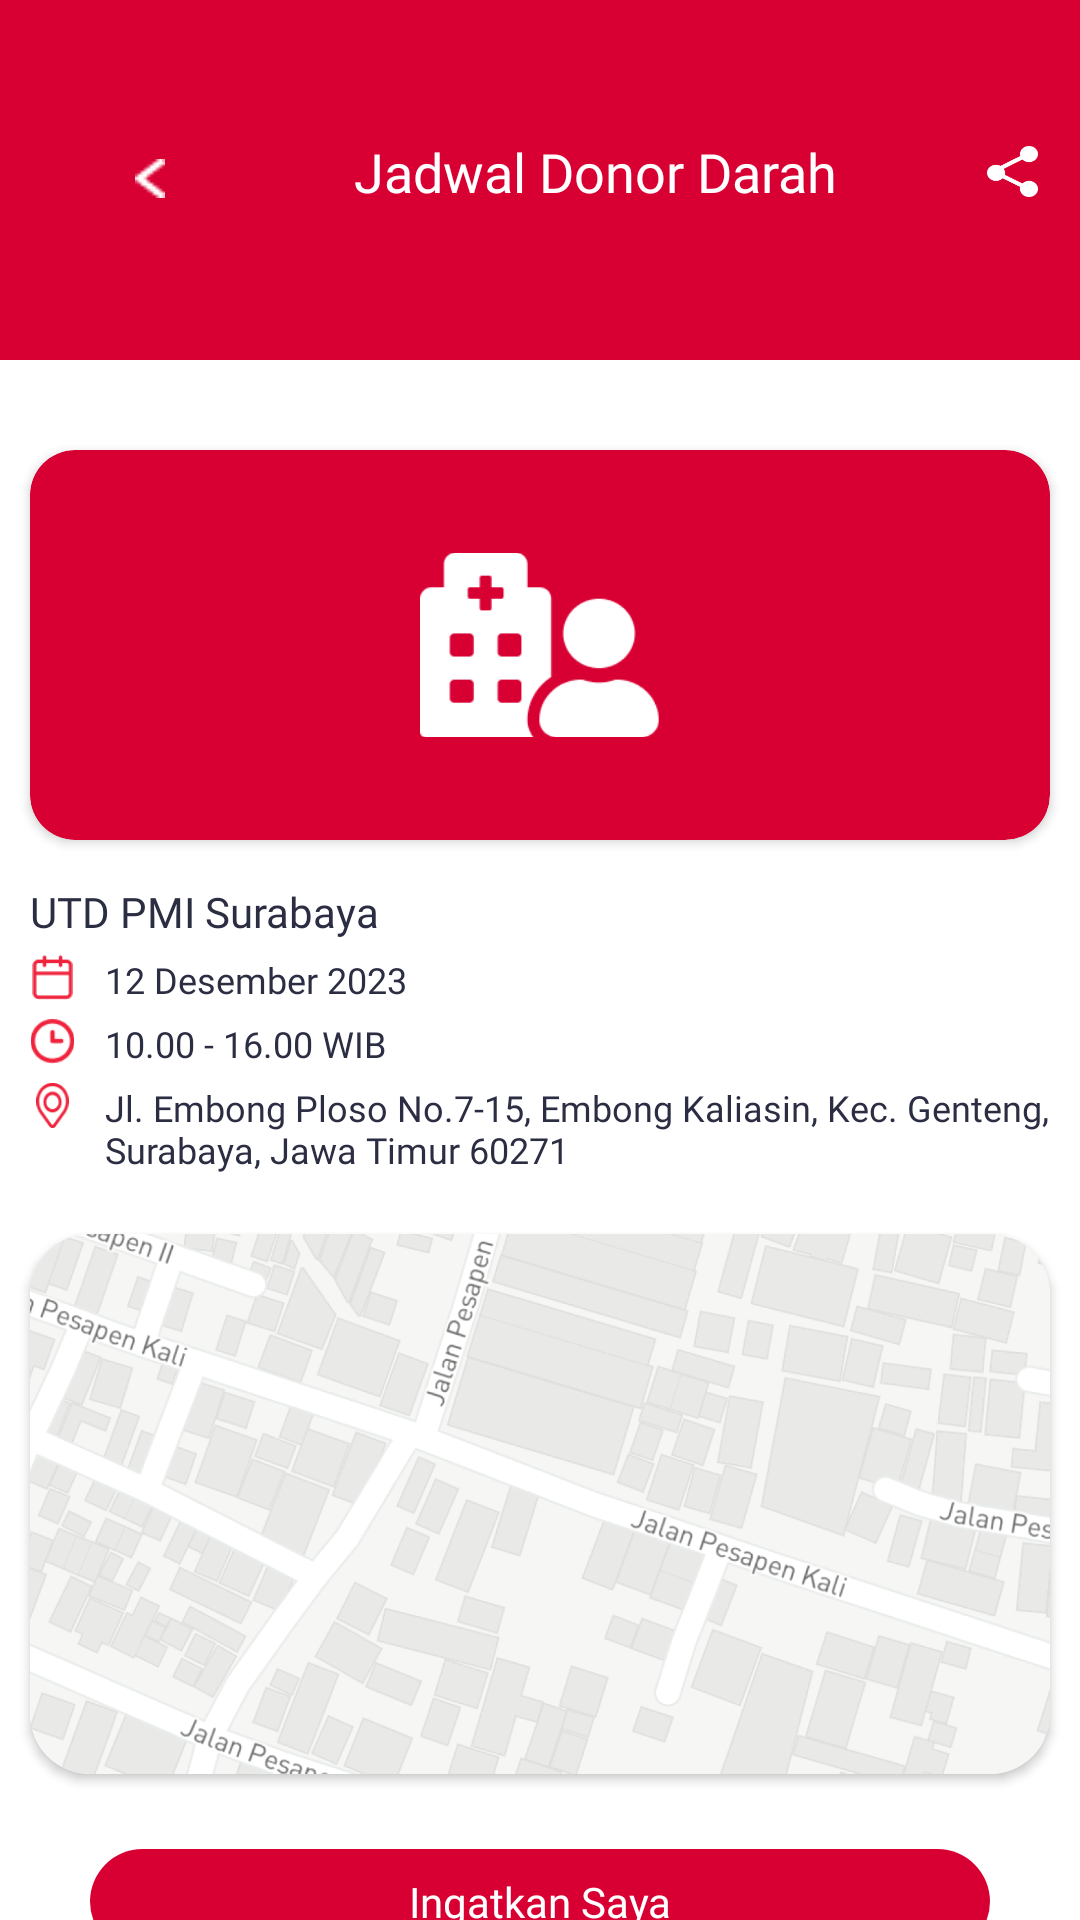

Where icons sit on this 1080px×1920px app screen, as (x1, y1, x2, y2):
back: (135, 159, 165, 198)
calendar: (32, 955, 73, 1000)
clock: (31, 1019, 74, 1064)
jadwaldonor: (420, 553, 659, 737)
locationpin: (36, 1083, 69, 1128)
share: (987, 146, 1038, 197)
